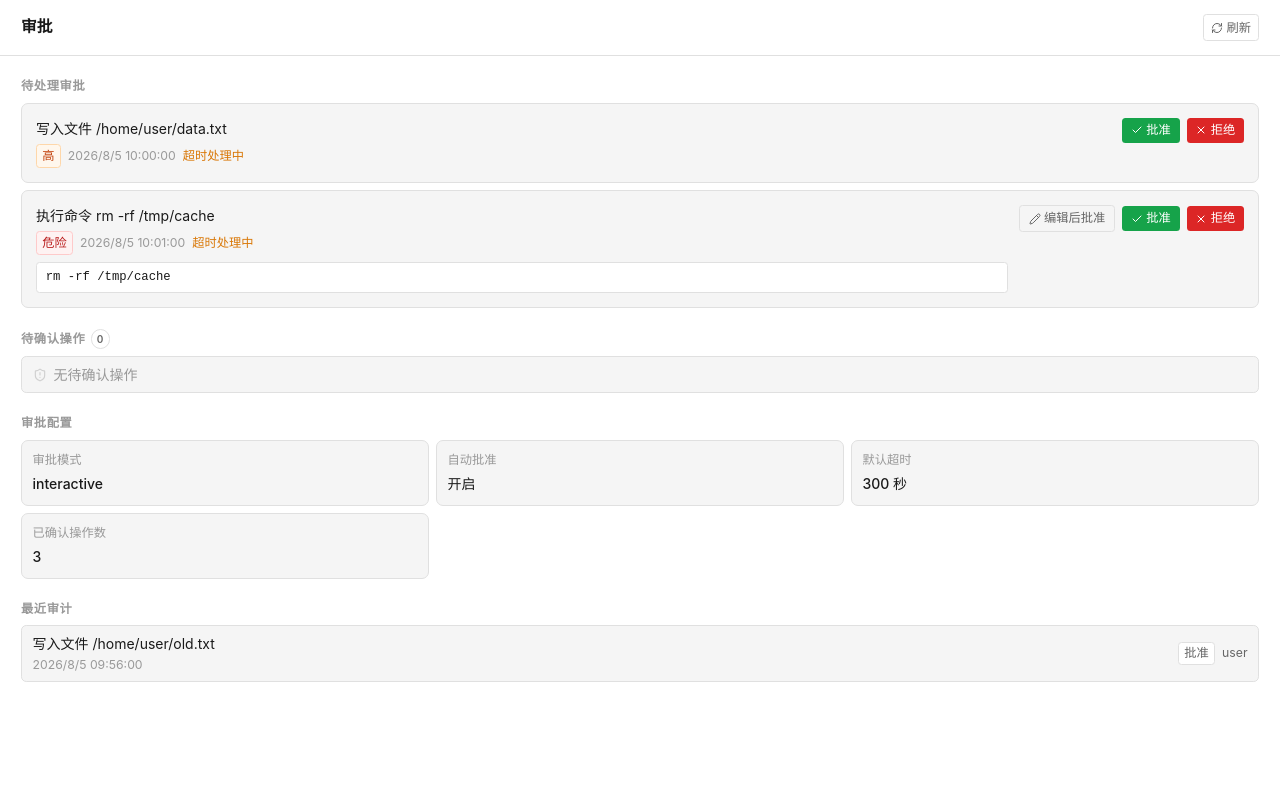
Scenario: ApprovalPanel › shows command text and approves with edited command via inline editor
This screenshot has width=1280, height=800.
Check: the text "执行命令 rm -rf /tmp/cache" is shown, box [36,207,215,224]
Check: the text "rm -rf /tmp/cache" is shown, box [36,262,1008,293]
Note: 打开内联编辑器 → 改写命令 → 提交编辑并批准
Step 1. Click the button with aria-label "编辑后批准 执行命令" → (1067, 219), box [1019,205,1115,232]
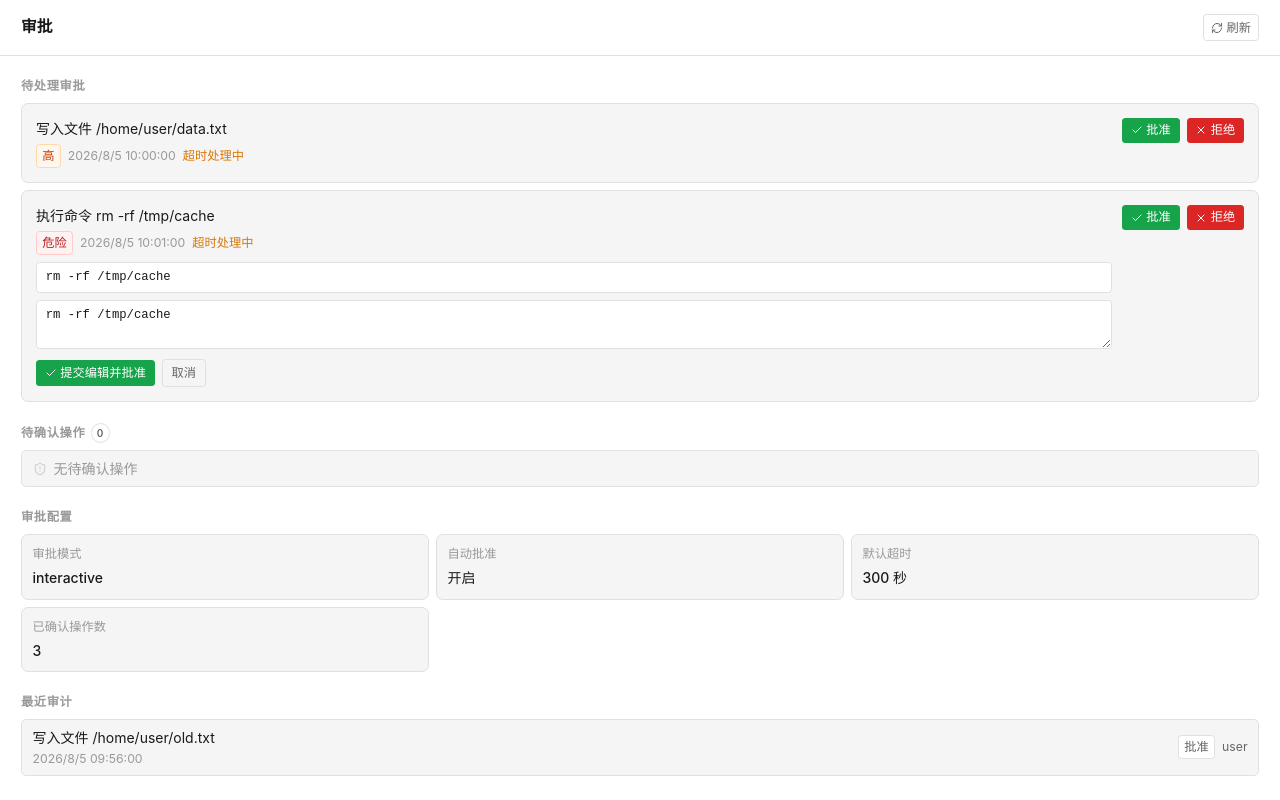
Check: the text box named "编辑后的命令" holds "rm -rf /tmp/cache"
Step 2. Replace the text in the text box named "编辑后的命令" with "rm -rf /tmp/cache --keep-log" → (574, 325), box [36,300,1112,349]
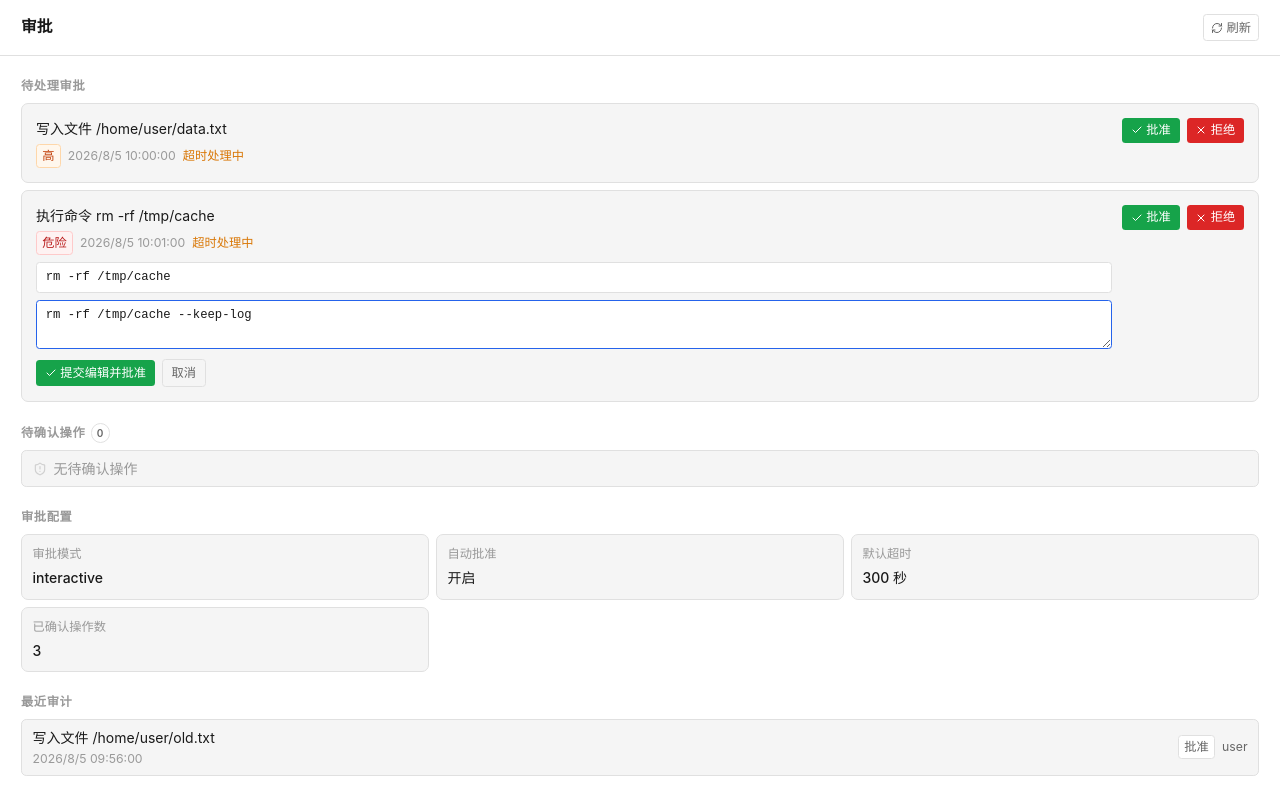
Step 3. Click the button "提交编辑并批准" → (95, 373), box [36,360,155,386]
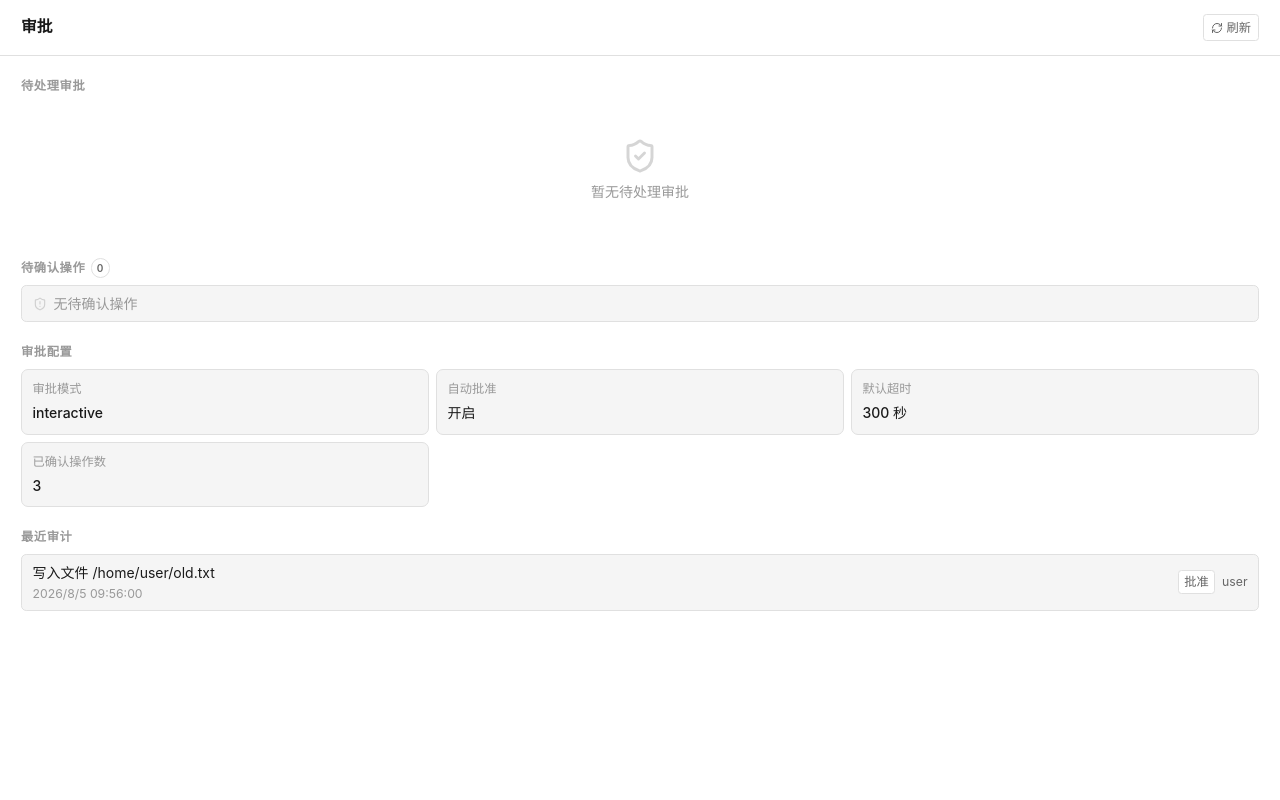
Check: the text "暂无待处理审批" is shown, box [591,181,689,202]
